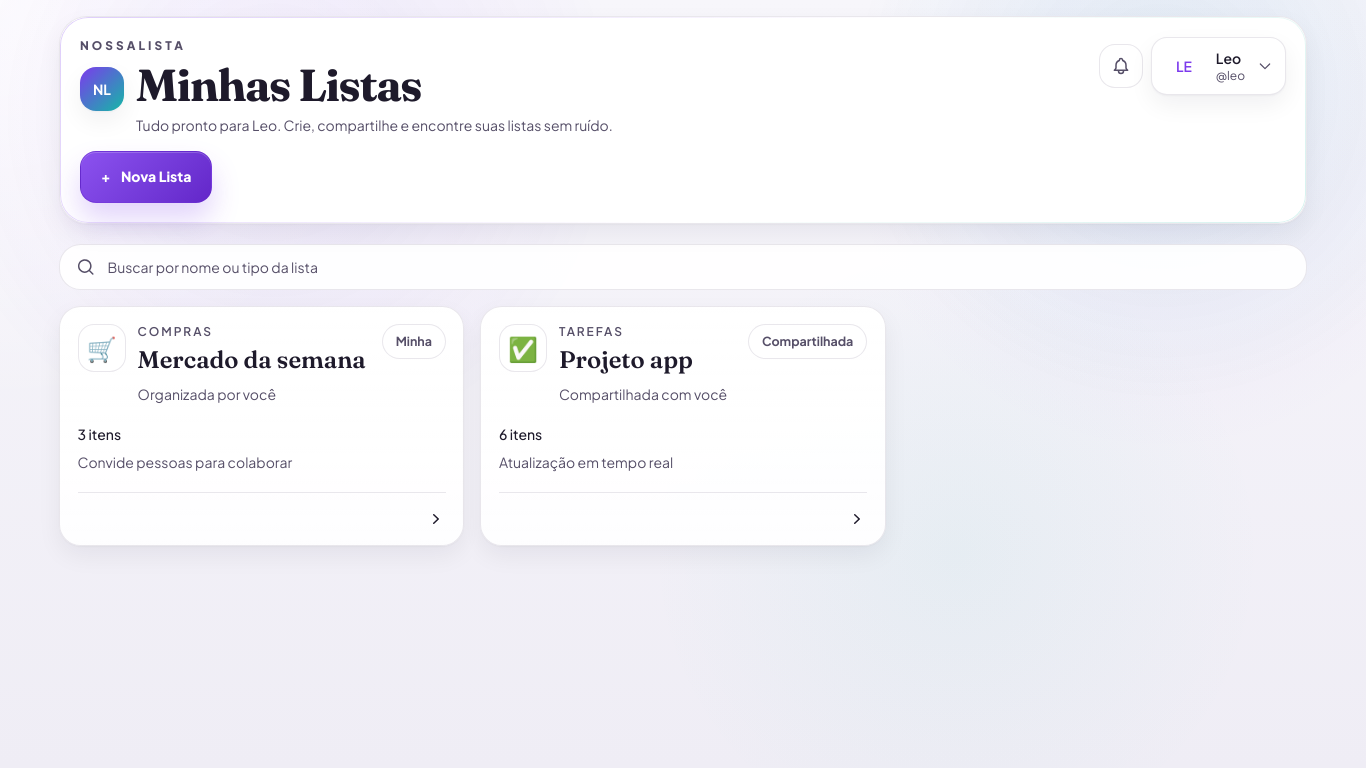
Test: Home search › mostra estado vazio da busca e restaura ao limpar filtro
Type "inexistente" into the search field named "Buscar listas" at (699, 266), box [108,256,1290,276]
Wait 260 ms
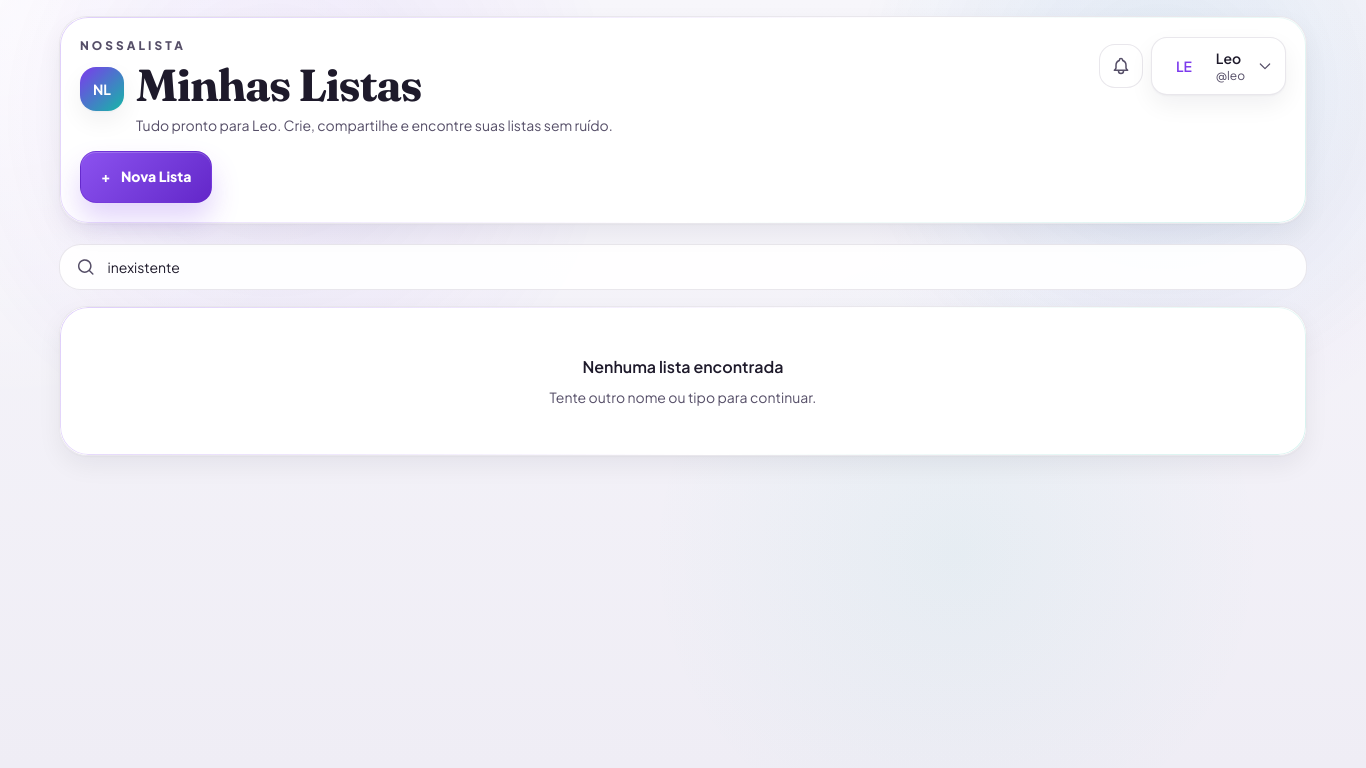
Expected: the text "Nenhuma lista encontrada" is shown, [582,356,784,376]
Clear the search field named "Buscar listas" at (699, 266), box [108,256,1290,276]
Wait 260 ms
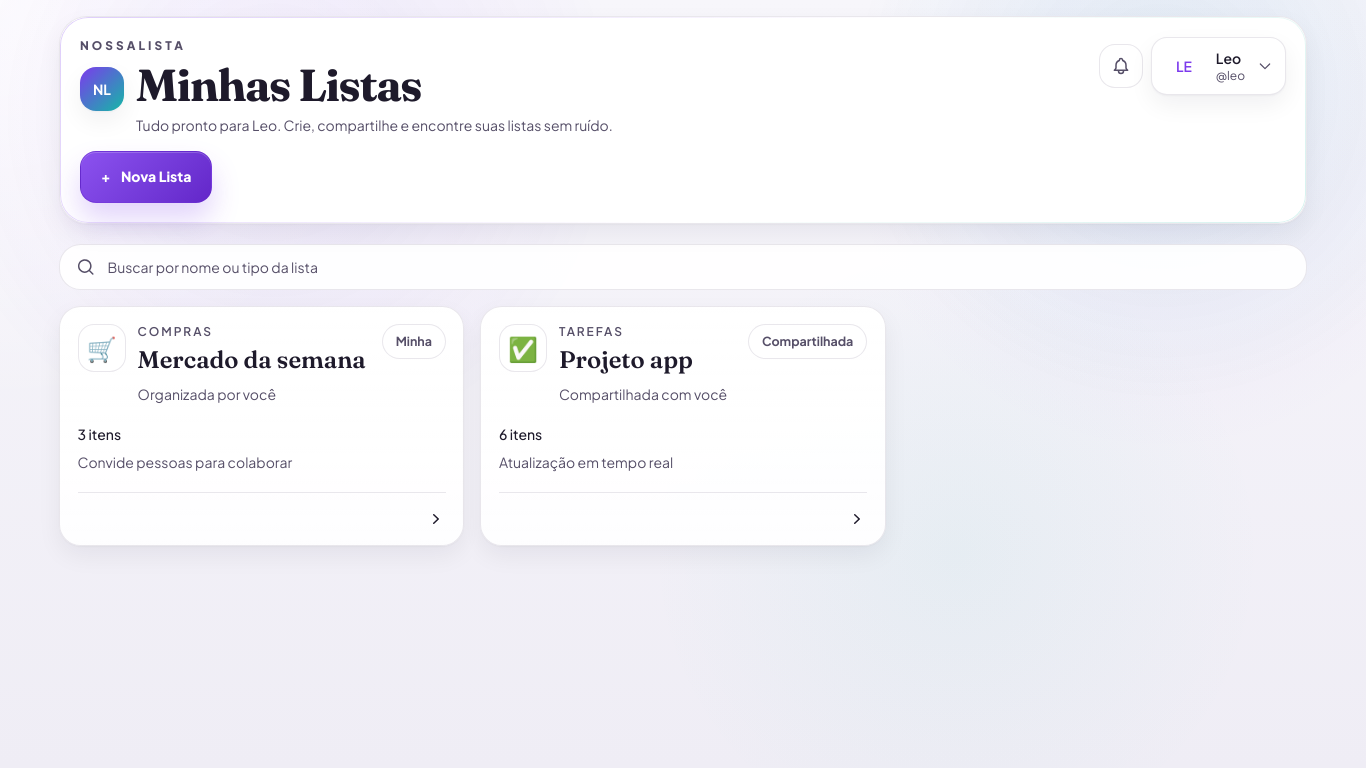
Expected: the heading "Mercado da semana" is shown, [138,344,366,376]
Expected: the heading "Projeto app" is shown, [559,345,693,374]
